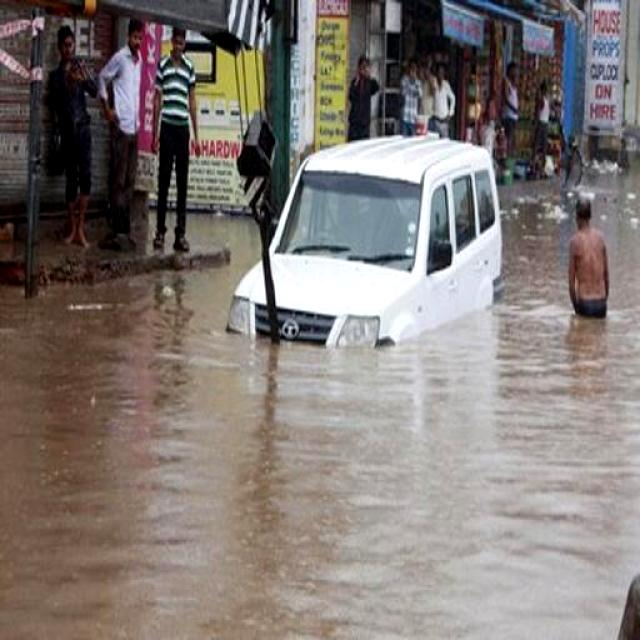civilian: (36, 7, 110, 274), (148, 18, 220, 283), (94, 5, 168, 262), (550, 174, 630, 351), (344, 49, 389, 148), (498, 52, 523, 160), (536, 71, 558, 173), (399, 51, 424, 139), (432, 66, 458, 142), (423, 42, 435, 138)
